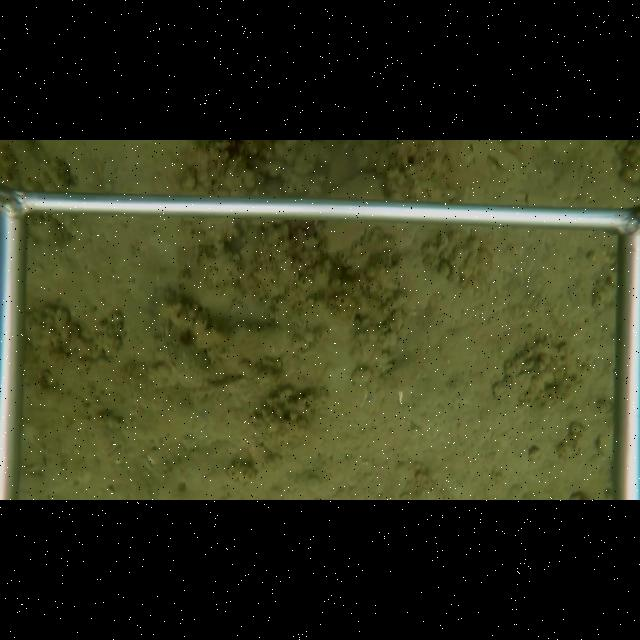Oyster-Closed: (159, 301, 259, 394)
